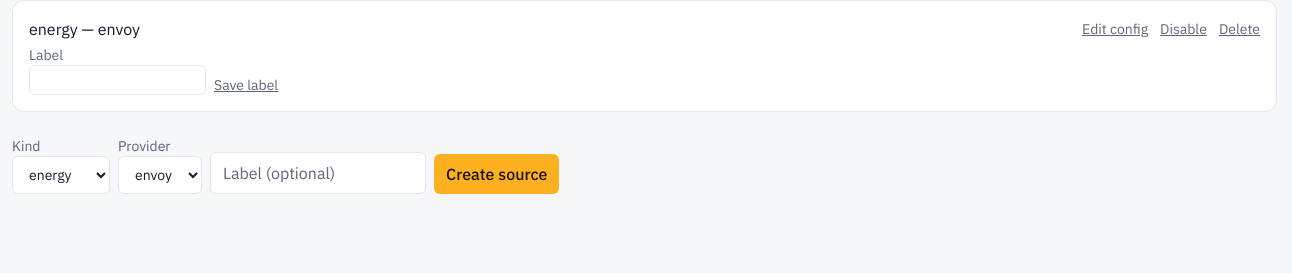
Test: CollectorsTab › shows an error when delete is blocked by existing readings
Click the button "Delete" at point(1239, 29), box x1=1219 y1=17 x2=1260 y2=41
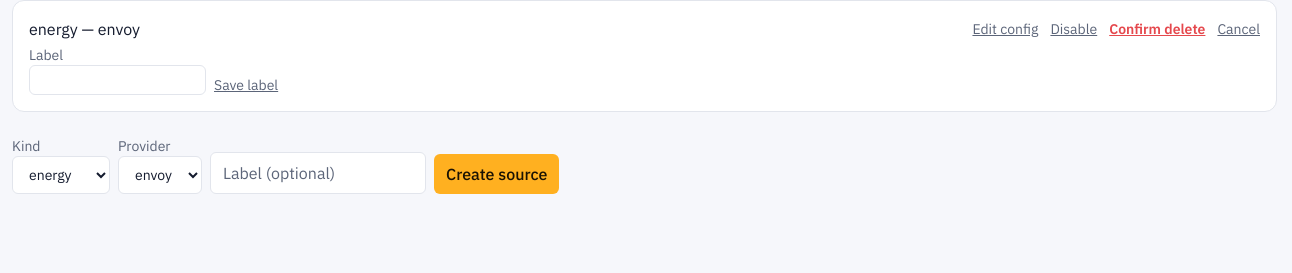
Click the button "Confirm delete" at point(1157, 29), box x1=1109 y1=17 x2=1205 y2=41
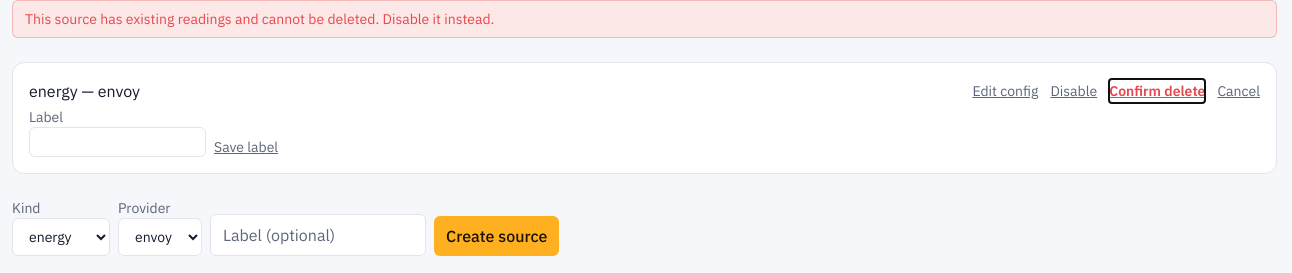
Expected: the text "envoy" is shown, x1=98 y1=81 x2=140 y2=101
Expected: the message shows "Disable it instead", x1=25 y1=10 x2=494 y2=28
